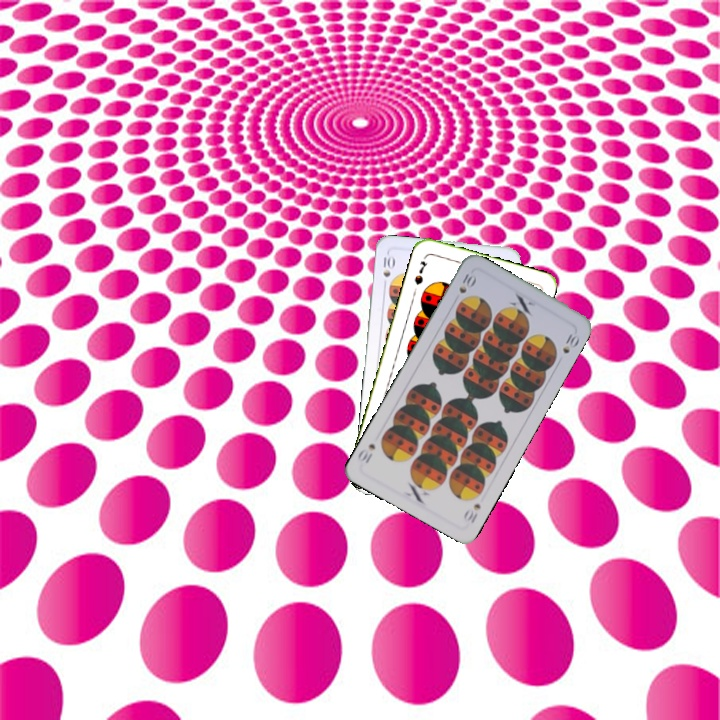S10: (379, 250, 396, 290), (459, 499, 483, 526), (455, 269, 478, 296)
S7: (410, 257, 430, 288)
